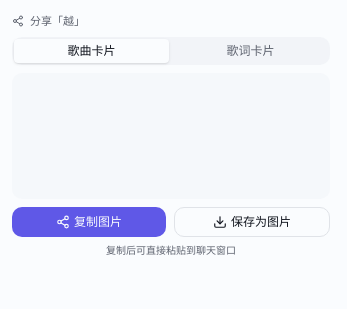
Scenario: ShareCardPanel › 画布不可用时给出提示而不是静默失败
The image size is (347, 309).
What coordinates should you click on to do the following:
click the button "保存为图片"
I would click on:
 (252, 222)
Its box is [174,207,330,237].
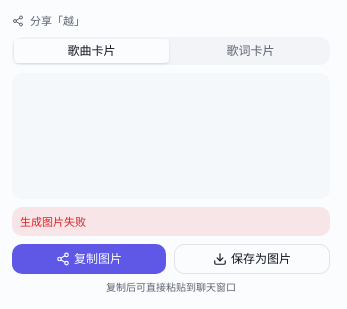
Check: the text "生成图片失败" is shown, box [12,207,330,236]
